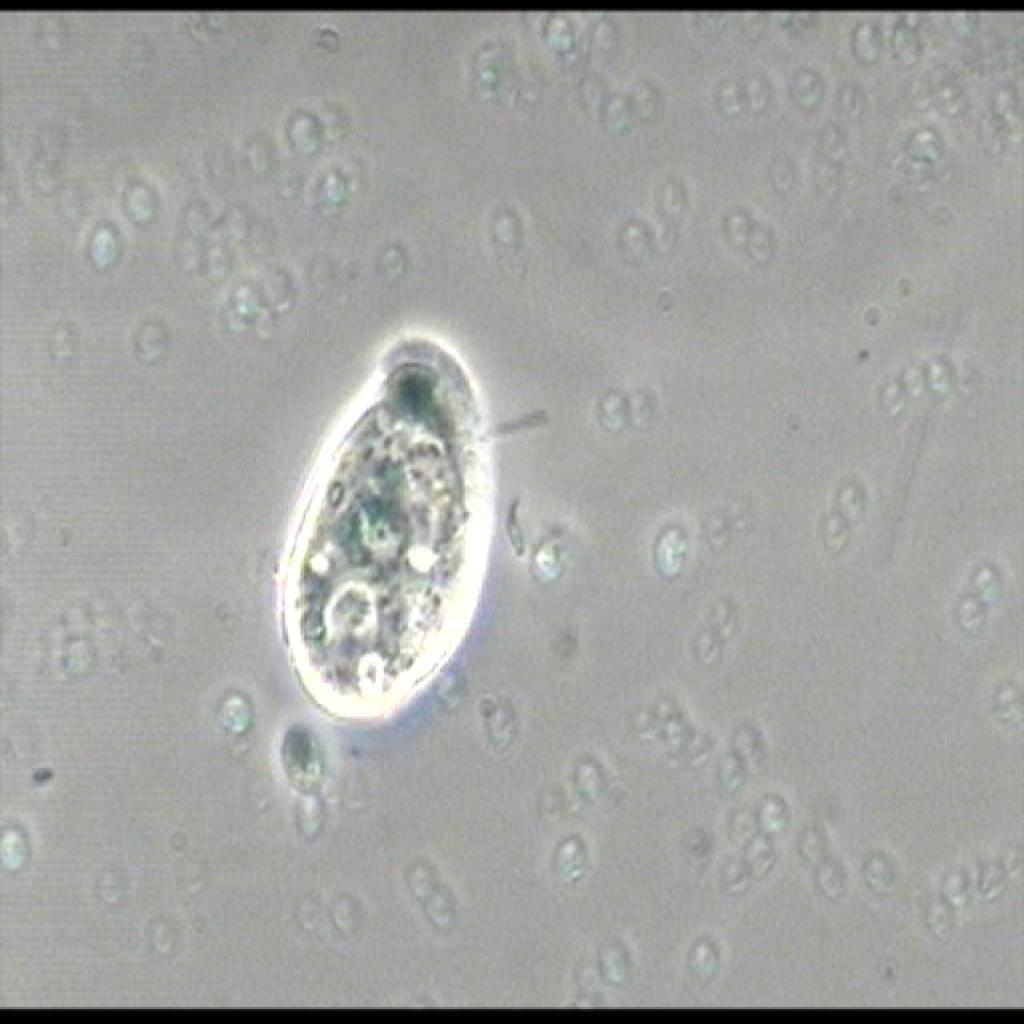Chilodonella: (249, 306, 559, 780)
